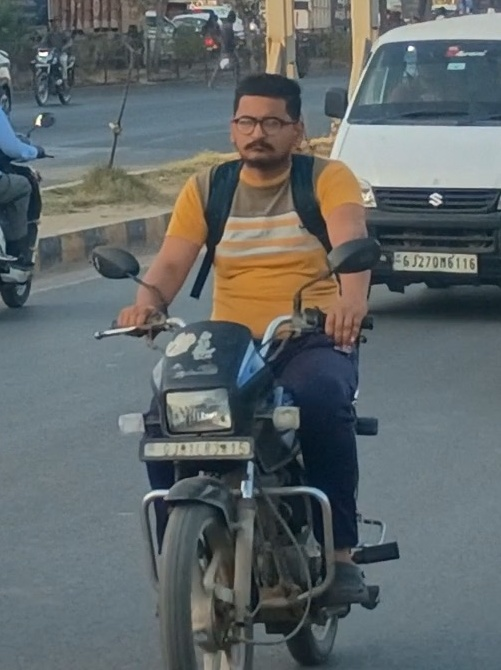BikeWithRider: (83, 64, 416, 670)
NoHelmet: (218, 67, 312, 177)
